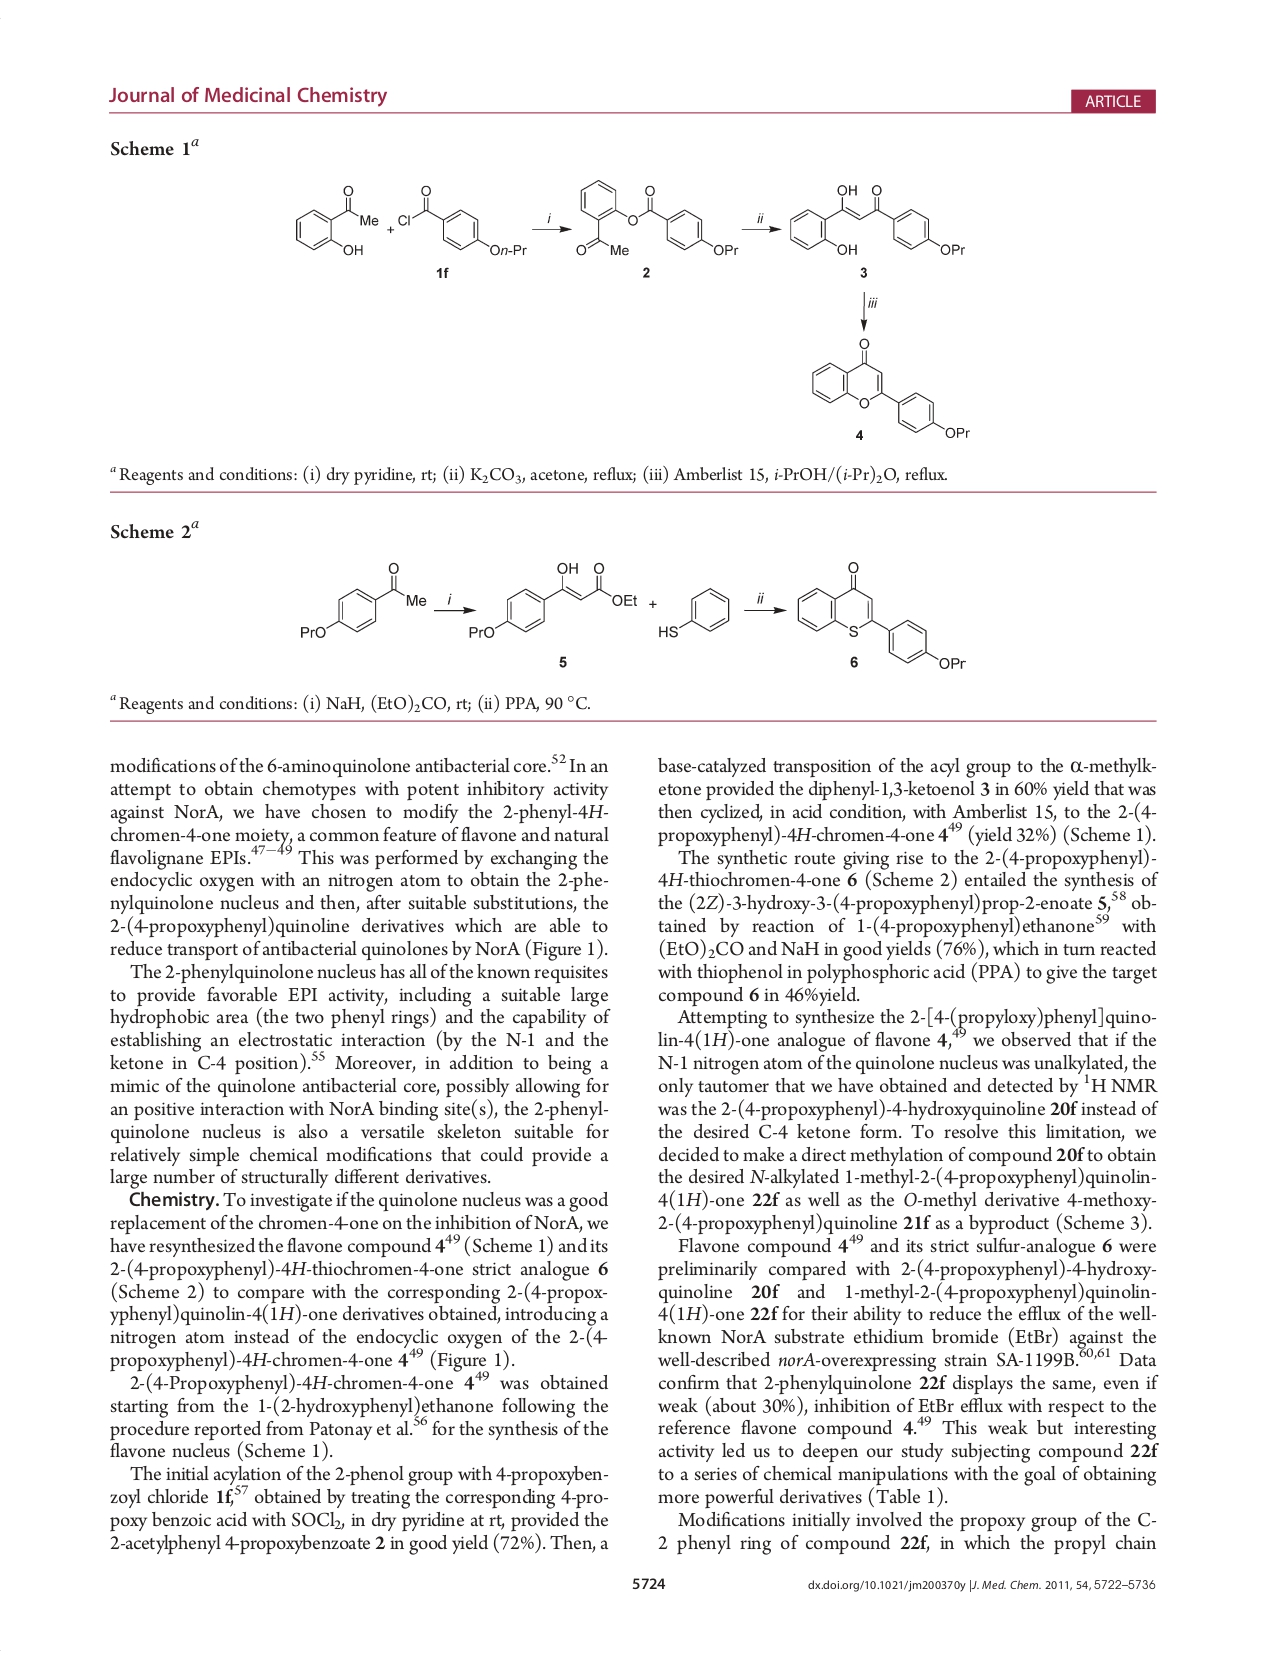exist_molecular: (795, 559, 967, 672), (809, 335, 973, 440), (786, 180, 965, 262), (468, 560, 641, 640), (574, 180, 739, 255), (297, 559, 426, 638), (398, 184, 531, 259), (293, 182, 380, 258), (656, 582, 733, 642)
